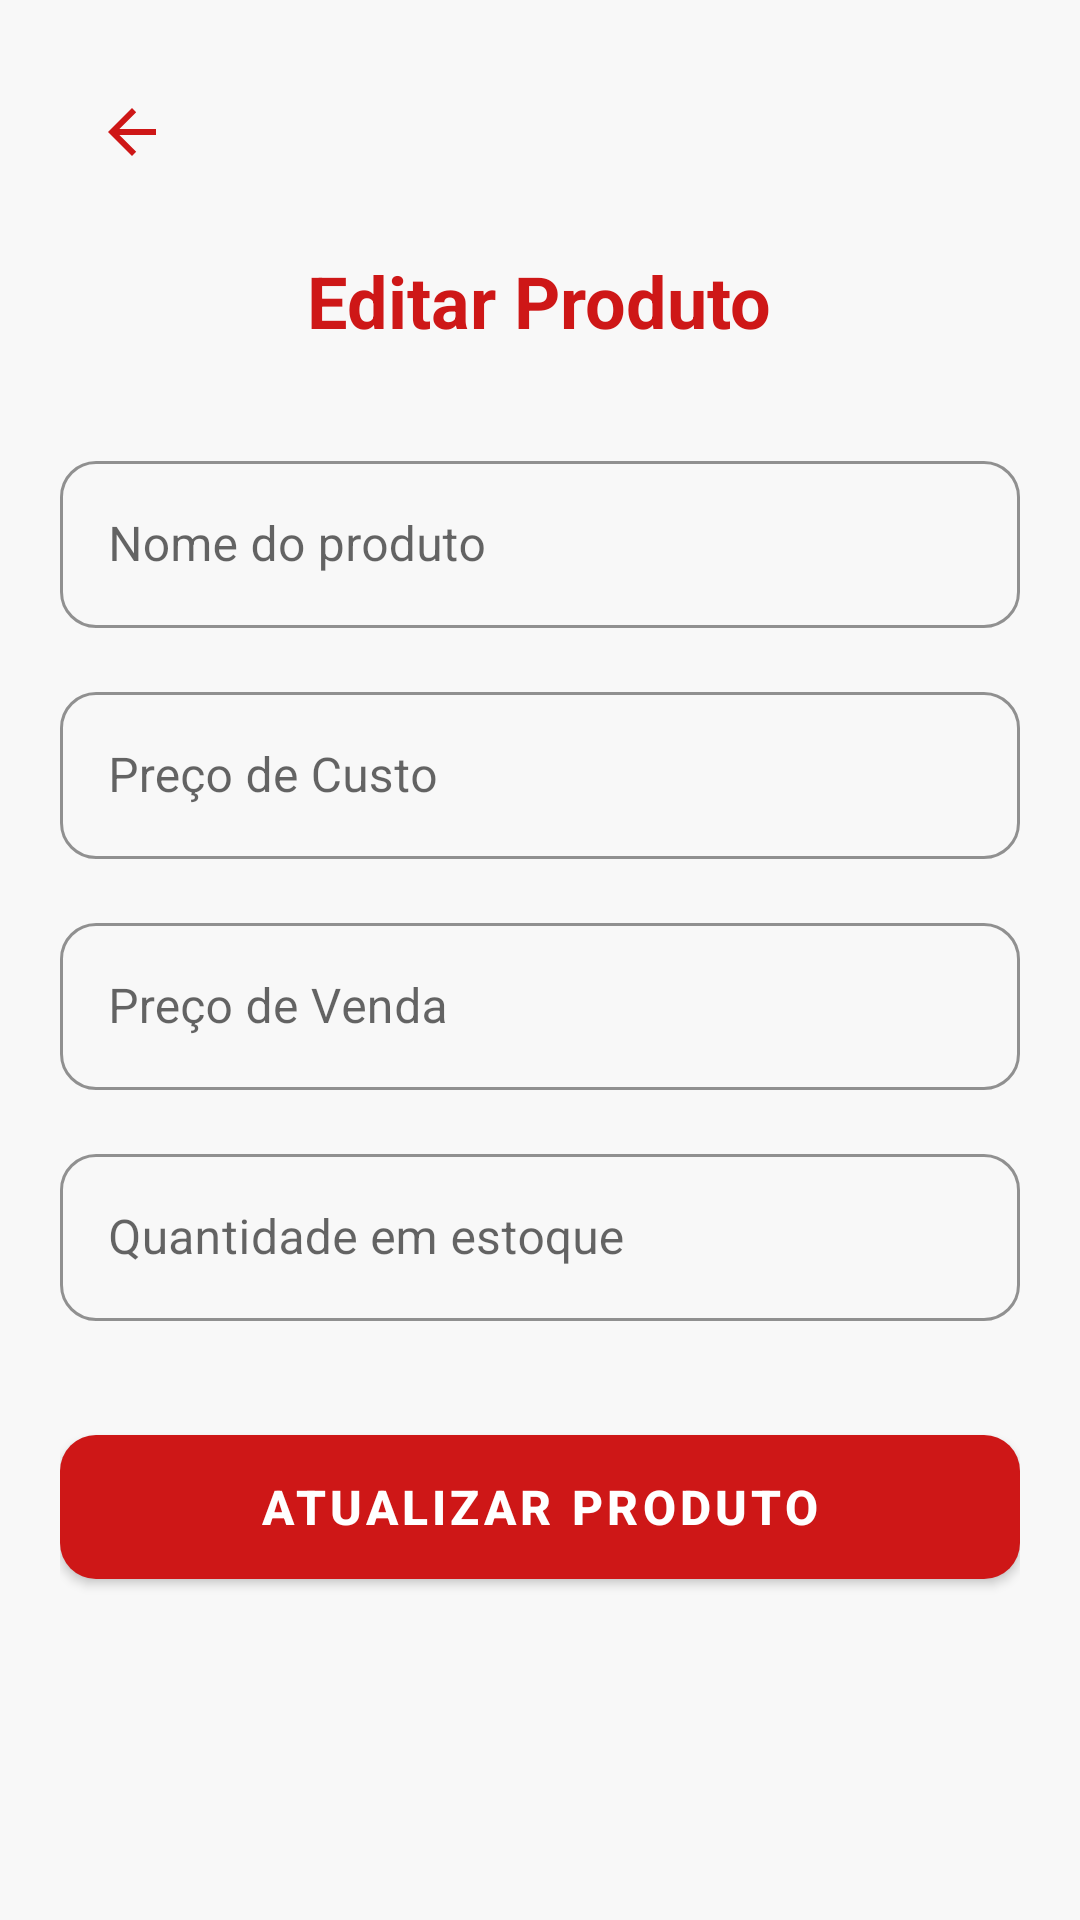

Named icons in this screenshot (1080x1920) and their centers, (x,y):
Voltar: (132,132)
